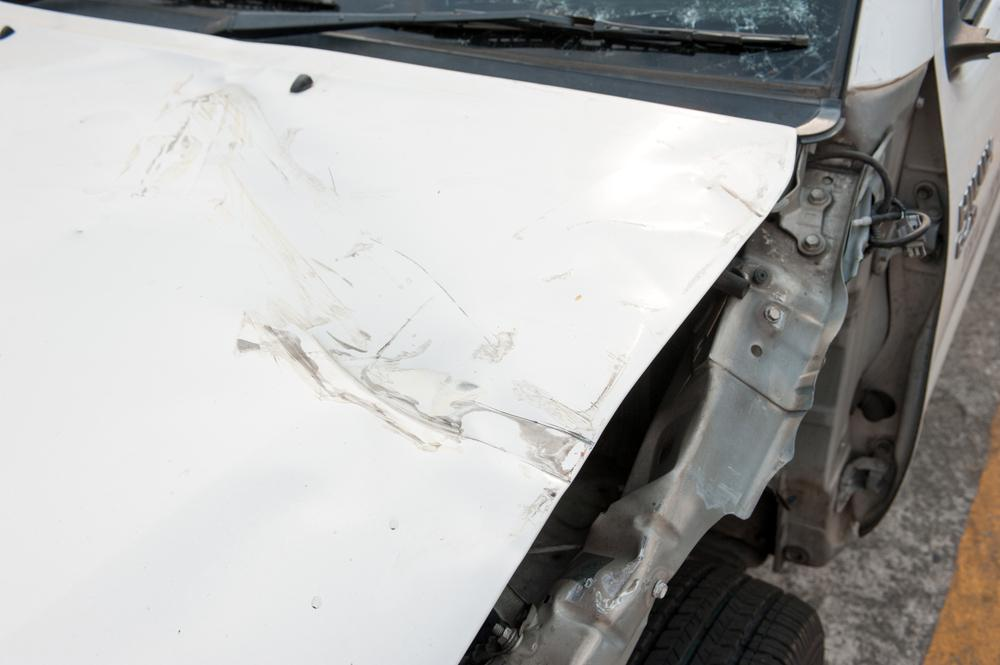scratch: (106, 55, 603, 492)
